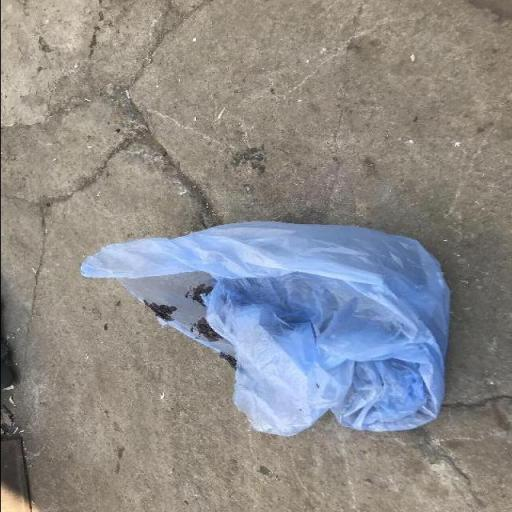plastic-bag: (66, 218, 456, 440)
